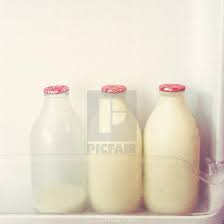milk: (28, 74, 86, 212), (147, 85, 208, 207), (89, 83, 139, 216)
